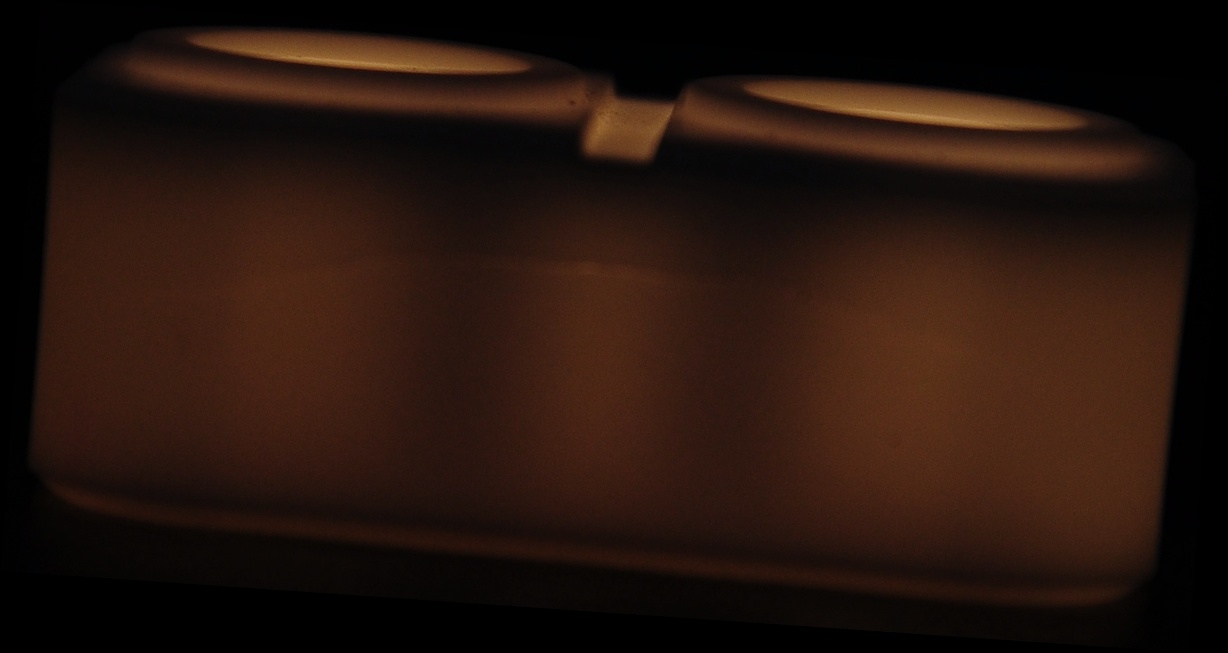flaw: (224, 224, 873, 331)
